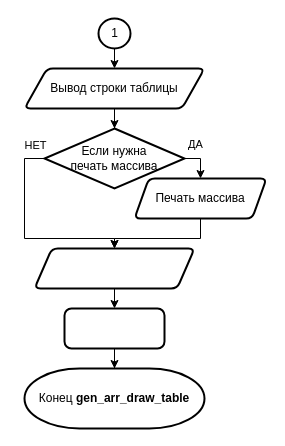
Some shapes in this 285 by 446 pixel diagram are drawn without their labels. The shapes that lost their labels are listed below. From the top down, each one's centre as x and y in pixels, then its label:
[114,268]: Печать конца таблицы
[114,328]: Удаление массива arr
